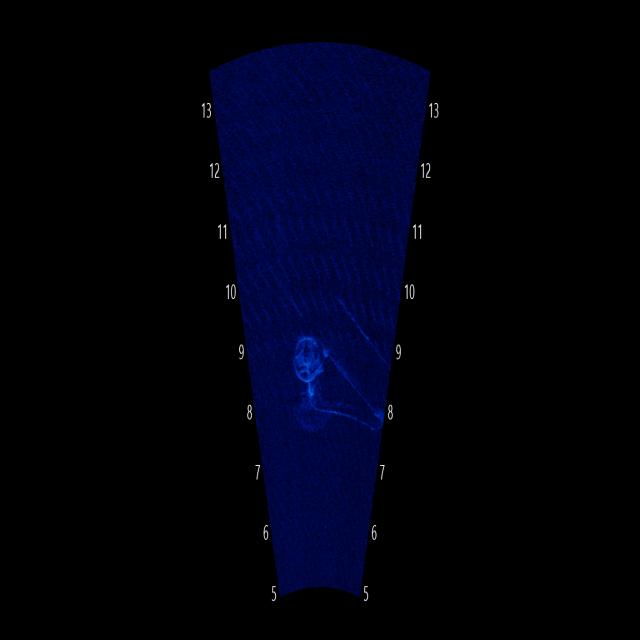circle: (281, 304, 336, 390)
